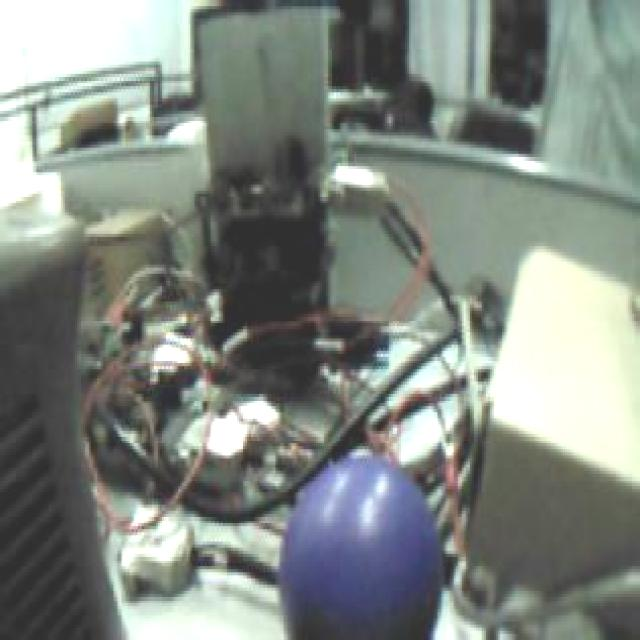BallPurple: (279, 455, 443, 640)
